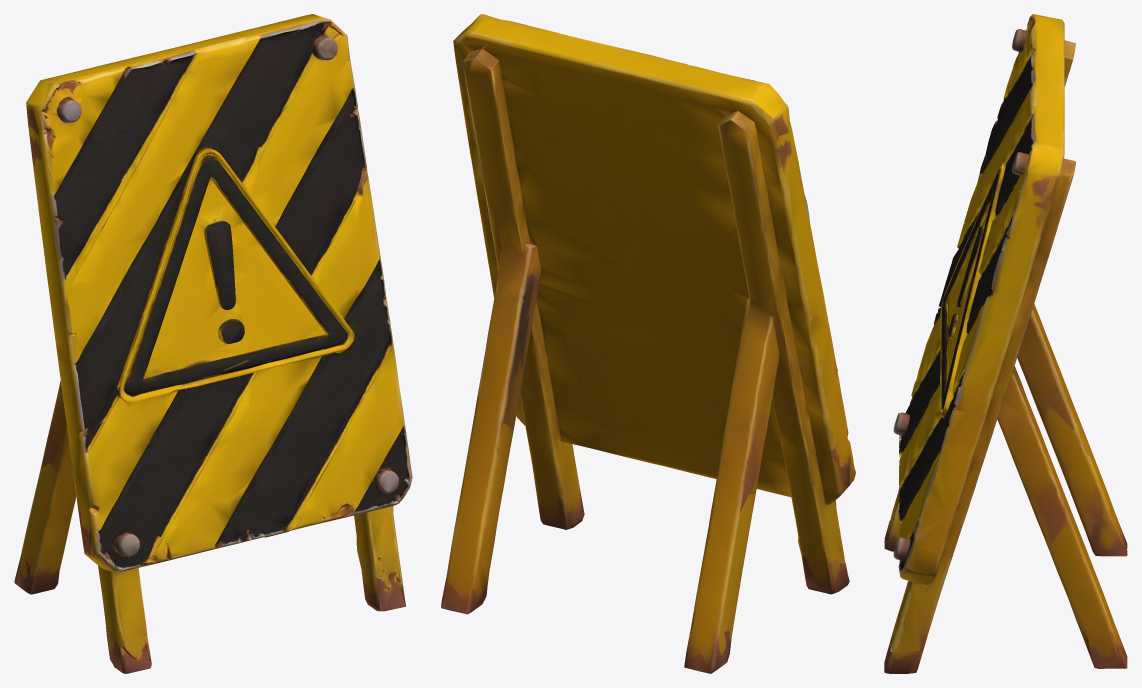
The model's file is decor_sign_warning_idle.glb.
3 views of the same model, side by side, from view 1: azimuth 30°, elevation 25°; view 2: azimuth 150°, elevation 25°; view 3: azimuth 270°, elevation 25° (orthographic). The views are drawn at different scales.
Parts seen in each view (by area): view 1: tripo_node_0a0d0cac-9386-4a29-bf4a-06ed7fc19ea1; view 2: tripo_node_0a0d0cac-9386-4a29-bf4a-06ed7fc19ea1; view 3: tripo_node_0a0d0cac-9386-4a29-bf4a-06ed7fc19ea1.
Boxes of the visible parts, x1=… form: tripo_node_0a0d0cac-9386-4a29-bf4a-06ed7fc19ea1: x1=14, y1=14, x2=412, y2=673; tripo_node_0a0d0cac-9386-4a29-bf4a-06ed7fc19ea1: x1=441, y1=14, x2=855, y2=673; tripo_node_0a0d0cac-9386-4a29-bf4a-06ed7fc19ea1: x1=884, y1=14, x2=1127, y2=673.
Bounding box in the file's own units: 0.5569 × 0.8999 × 0.3761.
Materials: 1 (1 with a texture image).
